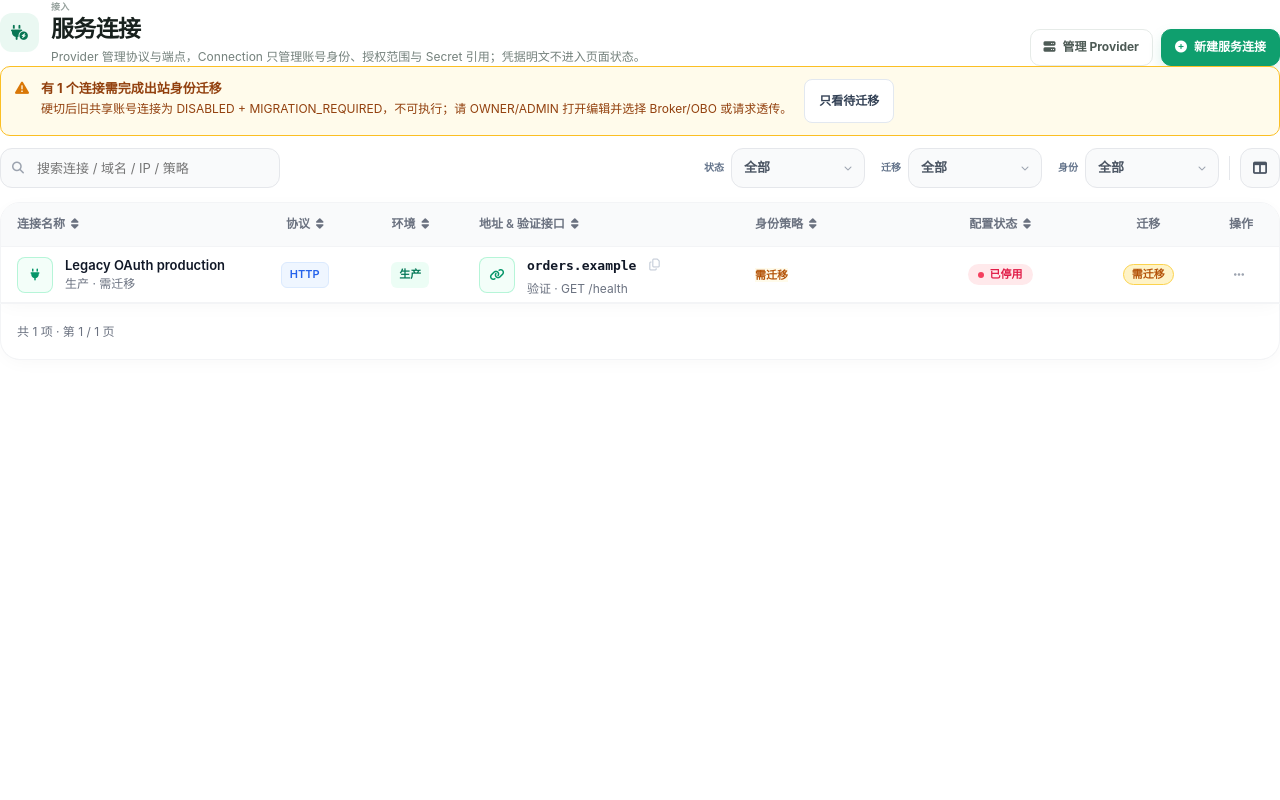
service connections v1 behavior › keeps a migration-required Connection marked until the wizard form is used
Step 1. Click the button named "更多操作" → point(1239, 275), box [1221,257,1257,293]
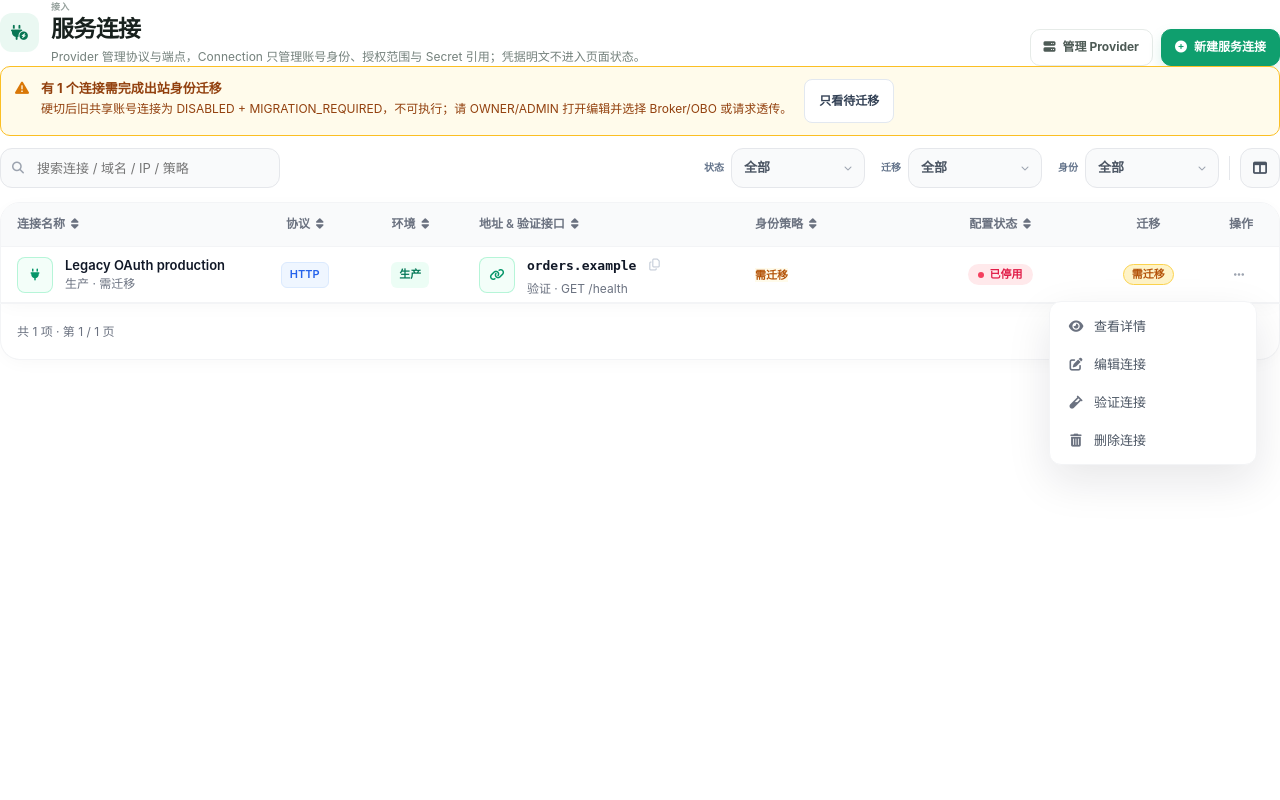
Step 2. Click the menu item with aria-label "编辑连接" → point(1153, 364), box [1056,346,1250,382]
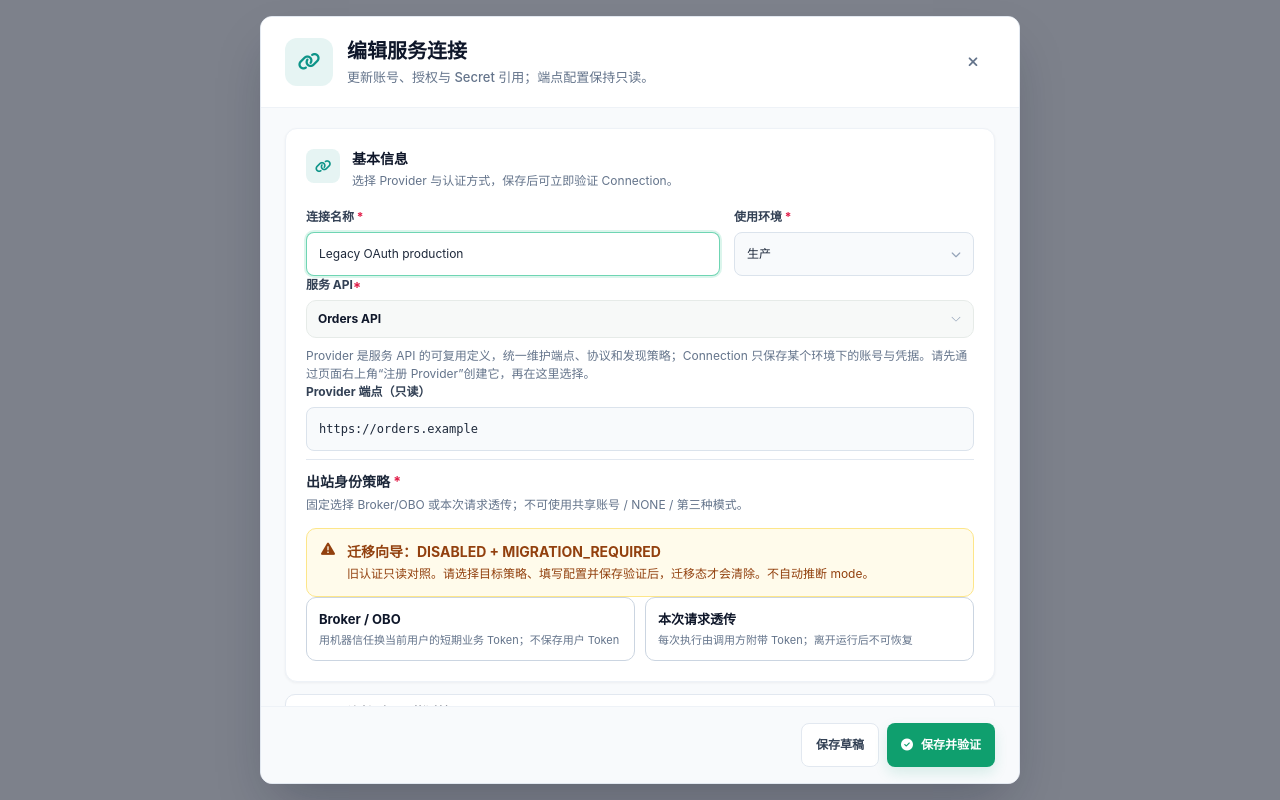
Expected: the message with test id "connection-migration-wizard-hint" is shown, [306,528,974,597]
Expected: the text "迁移向导" is shown, [347,543,661,560]
Expected: the text "旧认证只读对照" is shown, [347,566,874,581]
